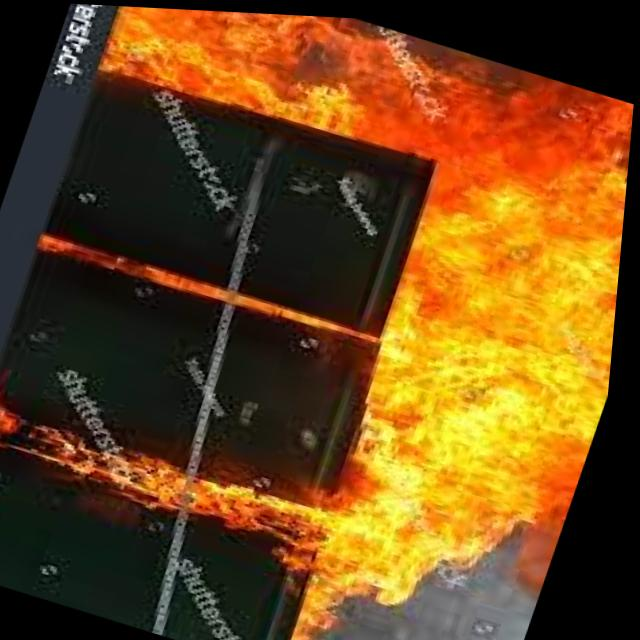Fire: (320, 63, 637, 580), (91, 4, 424, 151), (46, 427, 313, 561), (321, 523, 555, 640)
